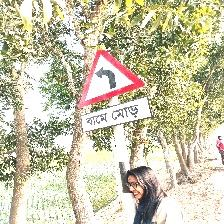Left-Turn: (77, 48, 152, 135)
